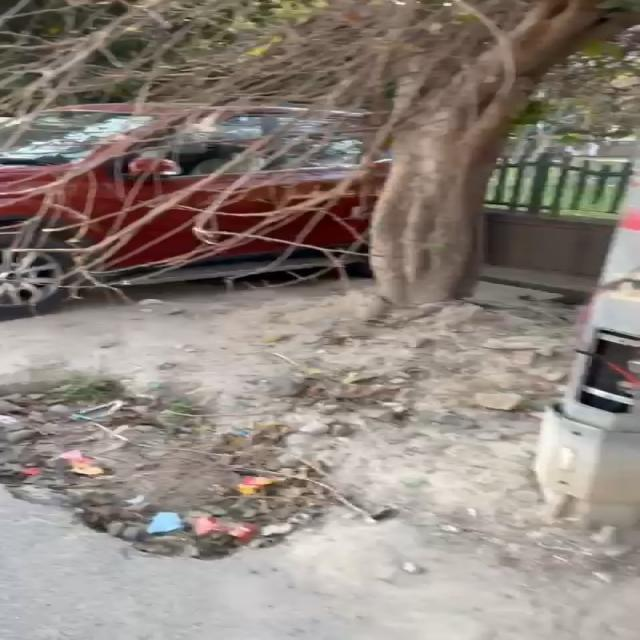car_front: (0, 69, 409, 329)
